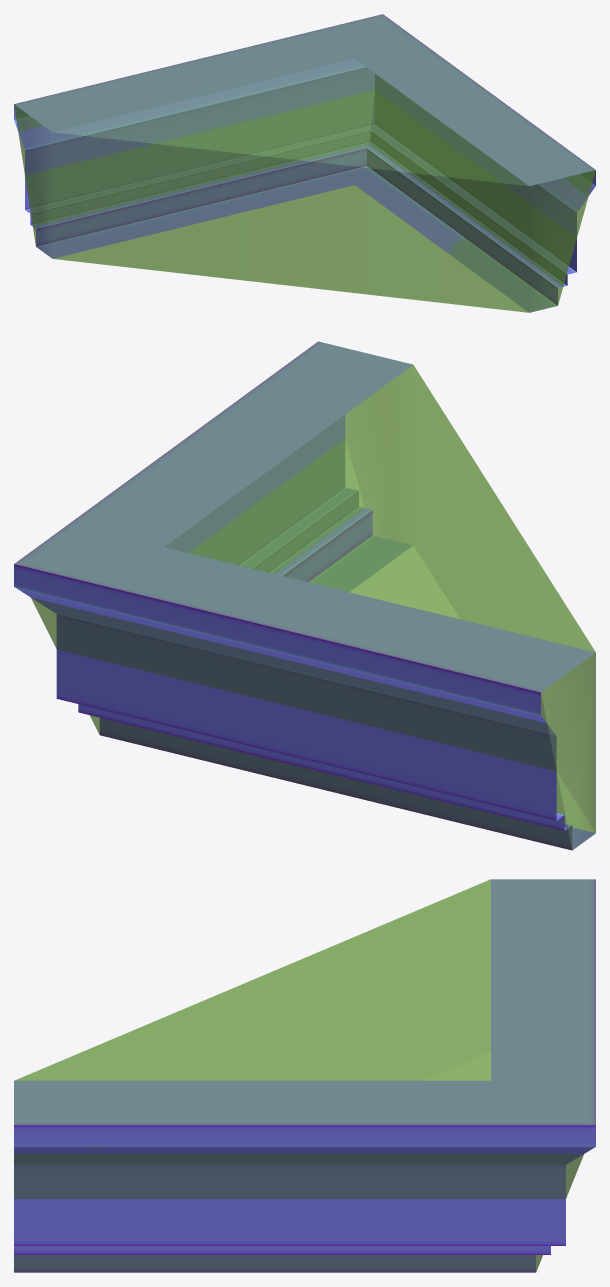
The model's file is F_md_TrimH_90cnr_04.fbx.
3 views of the same model, one above another, from view 1: azimuth 30°, elevation 25°; view 2: azimuth 150°, elevation 25°; view 3: azimuth 270°, elevation 25° (orthographic). The views are drawn at different scales.
Parts seen in each view (by area): view 1: F_md_TrimH_90cnr_04_col_01, F_md_TrimH_90cnr_04_LOD0; view 2: F_md_TrimH_90cnr_04_LOD0, F_md_TrimH_90cnr_04_col_01; view 3: F_md_TrimH_90cnr_04_col_01, F_md_TrimH_90cnr_04_LOD0.
Boxes of the visible parts, <box> form: F_md_TrimH_90cnr_04_col_01: <box>14,14,595,312</box>; F_md_TrimH_90cnr_04_LOD0: <box>14,14,595,312</box>; F_md_TrimH_90cnr_04_LOD0: <box>14,341,595,850</box>; F_md_TrimH_90cnr_04_col_01: <box>14,341,595,850</box>; F_md_TrimH_90cnr_04_col_01: <box>14,879,595,1272</box>; F_md_TrimH_90cnr_04_LOD0: <box>14,879,595,1272</box>.
Size of what is drawn, in the model's own units: 122 by 40 by 122.
